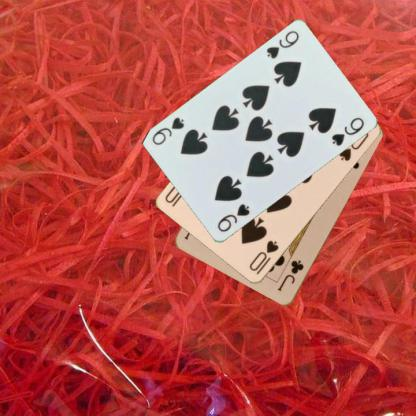10s: (247, 238, 280, 276)
9s: (214, 201, 252, 234), (264, 28, 300, 60)
Jc: (275, 258, 305, 293)
